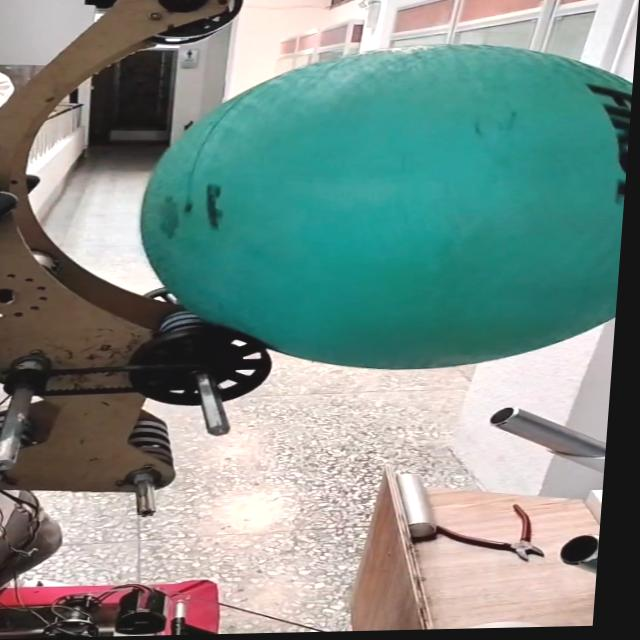ALGAE: (132, 32, 637, 378)
